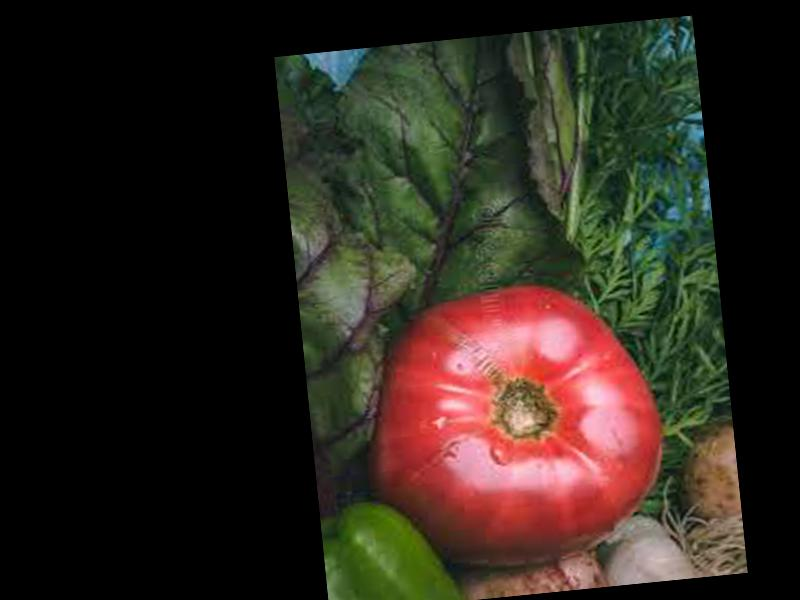Tomato: (351, 274, 673, 583)
